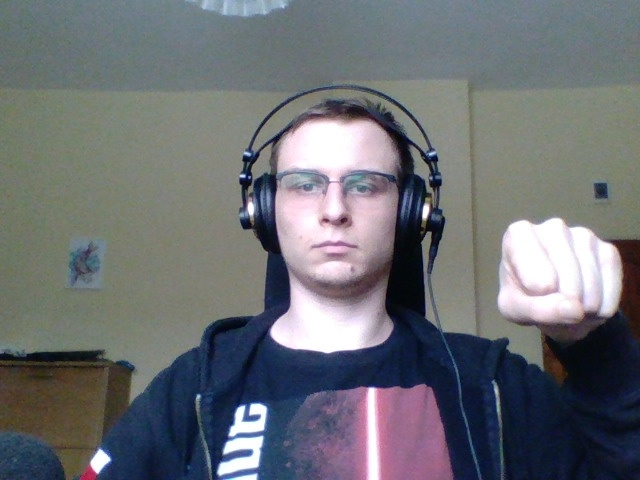yes: (488, 206, 632, 340)
